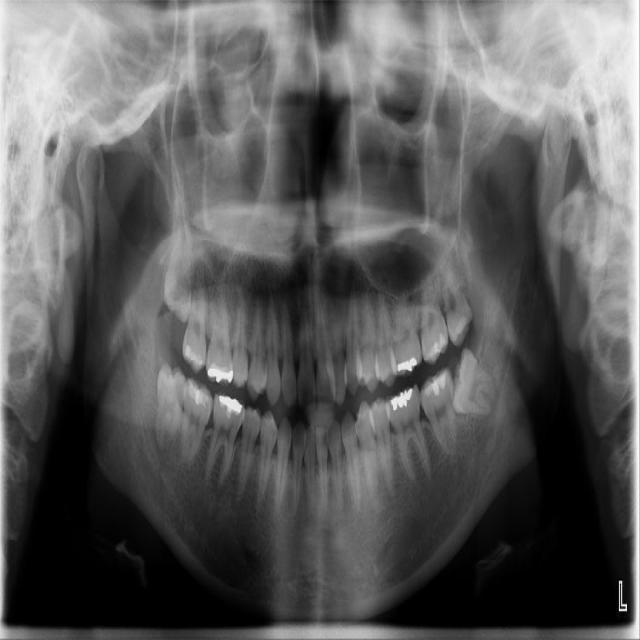3M ESPE Implant: (163, 219, 194, 324)
52: (379, 381, 434, 436), (416, 365, 456, 420), (181, 376, 216, 427), (418, 316, 453, 367), (212, 391, 245, 439), (205, 335, 233, 387), (390, 333, 422, 378), (180, 324, 208, 375)
73: (603, 580, 611, 590)
BioHorizons Implant: (414, 256, 451, 367)
BioLife Implant: (434, 227, 477, 349)
Biomet 3i Implant: (450, 347, 496, 416)
Blue Sky Bio Implant: (418, 365, 458, 459)
Caries: (182, 281, 207, 375)
Implant: (178, 375, 215, 468)
Keystone Dental Implant: (154, 361, 188, 460)
